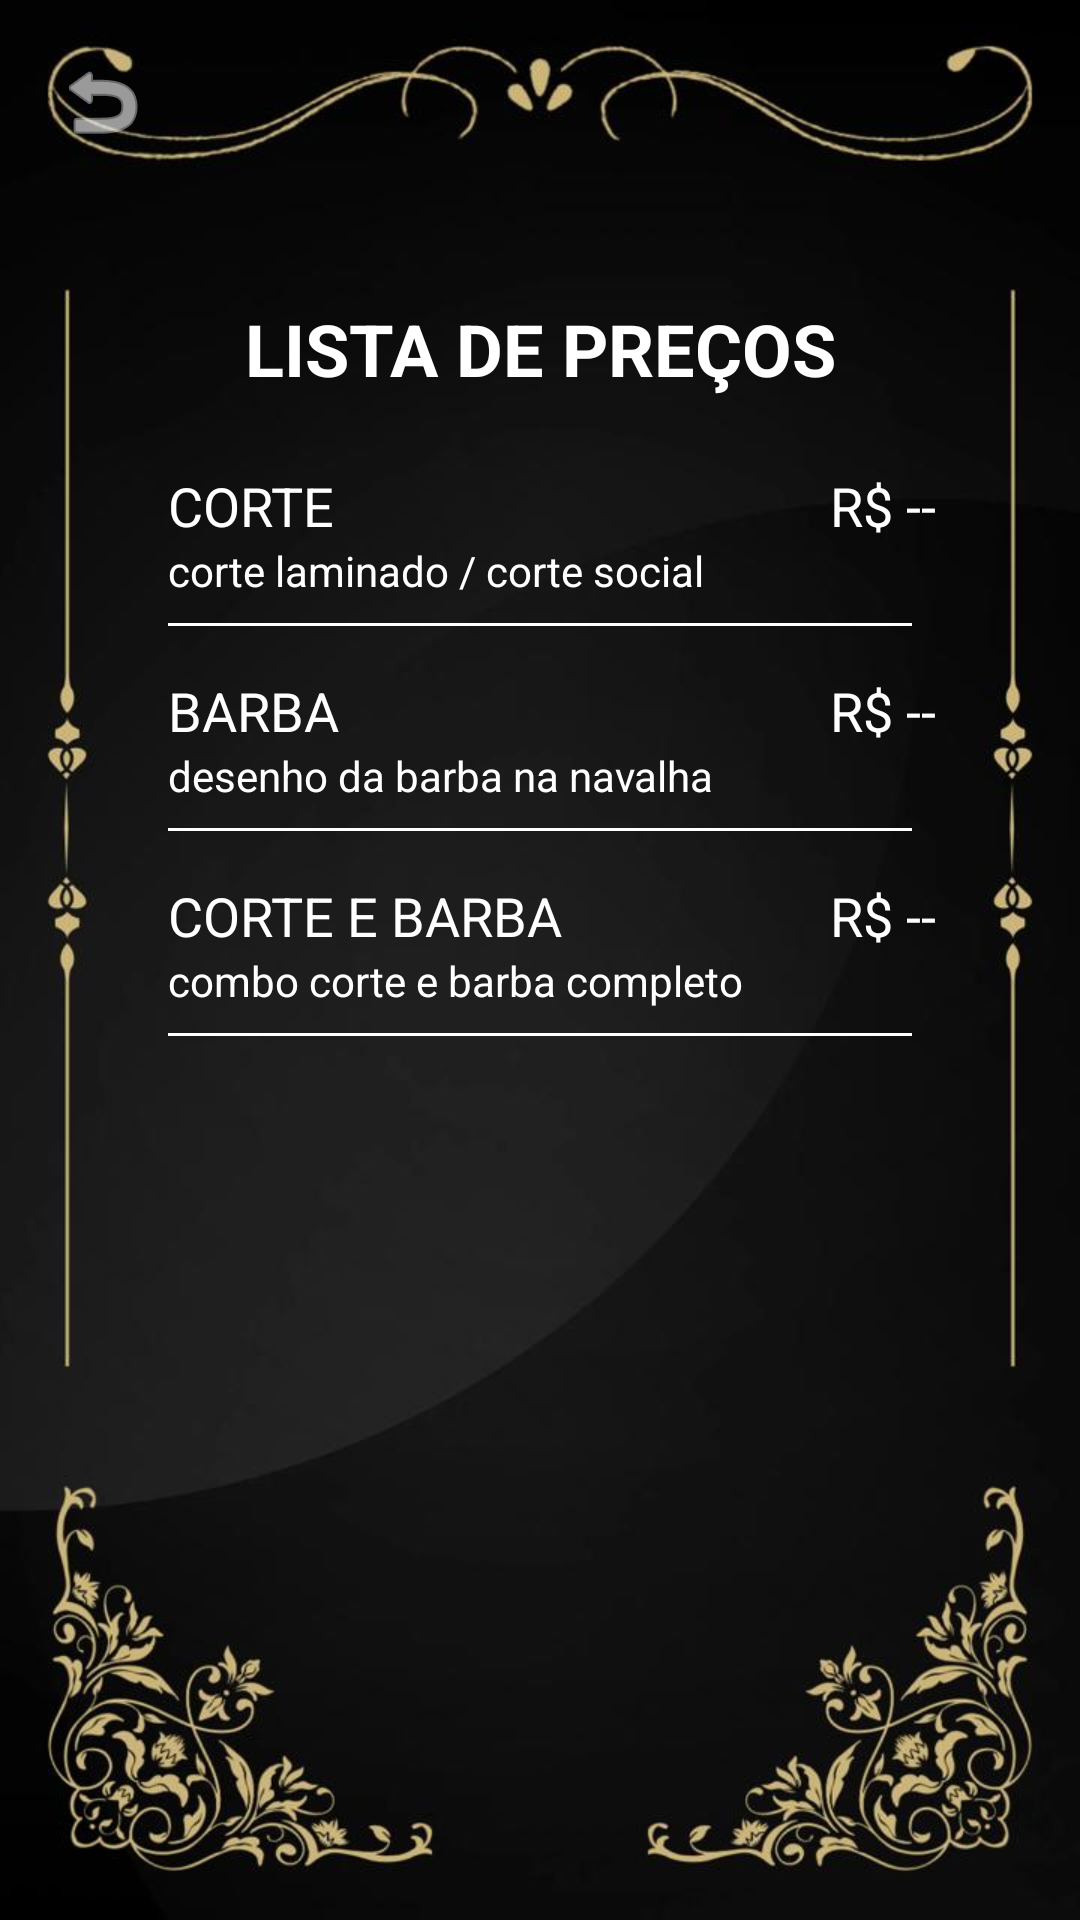

Where icons sit on this 1080w x 1920h app screen, as (x1, y1, x2, y2):
Voltar: (48, 48, 156, 156)
